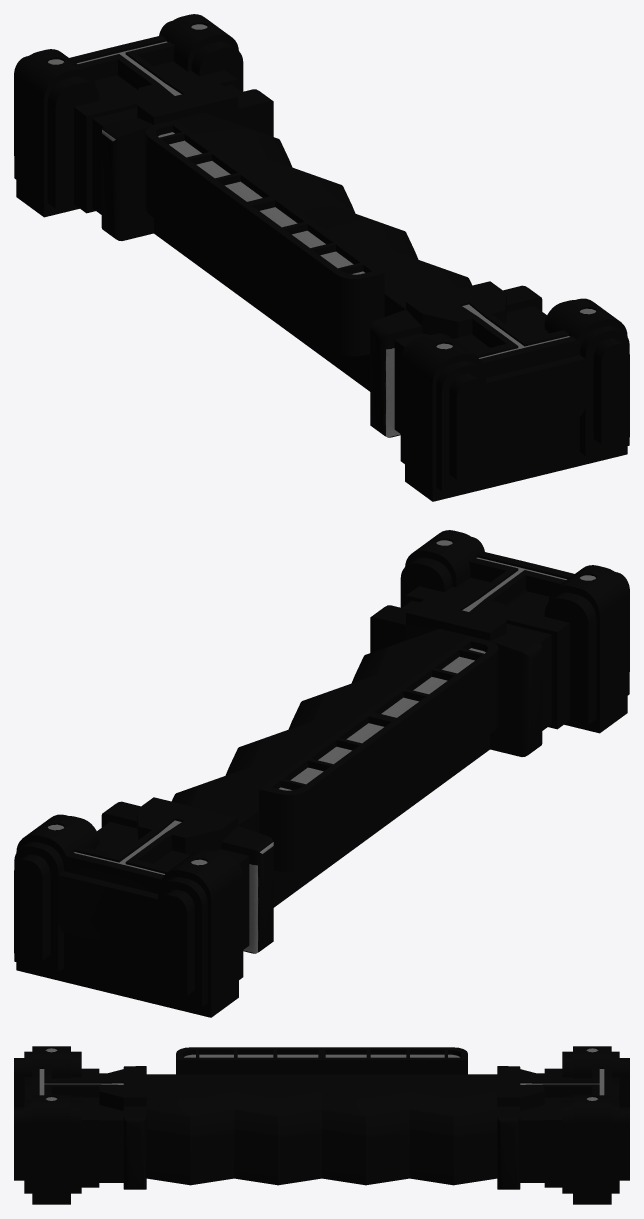
File: Player_asset.fbx
The picture shows the model from 3 angles, top to bottom: view 1: azimuth 30°, elevation 25°; view 2: azimuth 150°, elevation 25°; view 3: azimuth 270°, elevation 25°; orthographic projection. The views are drawn at different scales.
Parts seen in each view (by area): view 1: Player_asset; view 2: Player_asset; view 3: Player_asset.
Boxes of the visible parts, bbox=[...] form: Player_asset: bbox=[14, 14, 629, 501]; Player_asset: bbox=[14, 530, 629, 1017]; Player_asset: bbox=[14, 1046, 629, 1204].
Bounding box in the file's own units: 20.51 × 14.1 × 80.69.
1 material, 1 textured.
